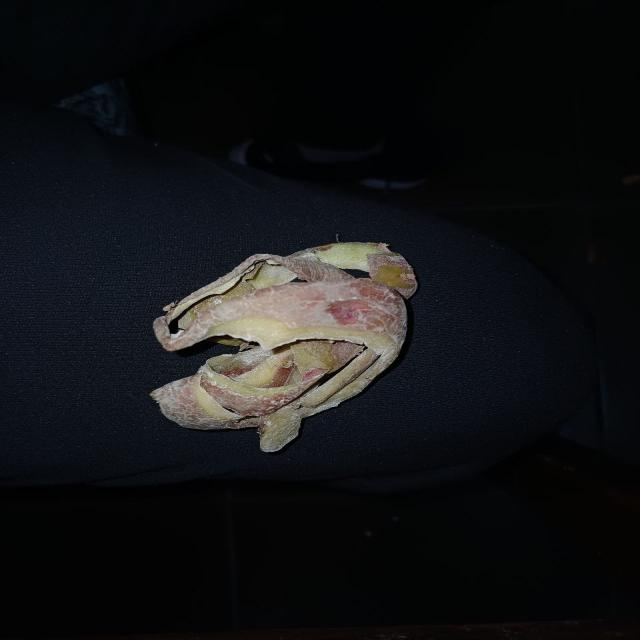organic: (148, 241, 416, 453)
